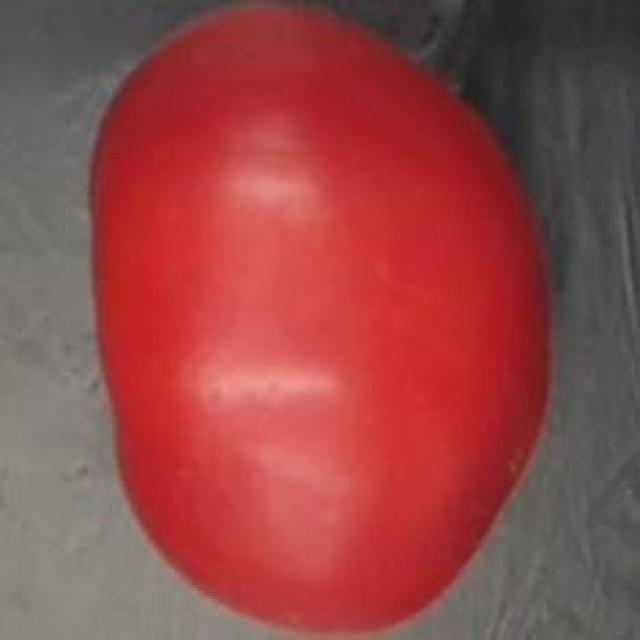ripe tomato: (82, 0, 563, 640)
